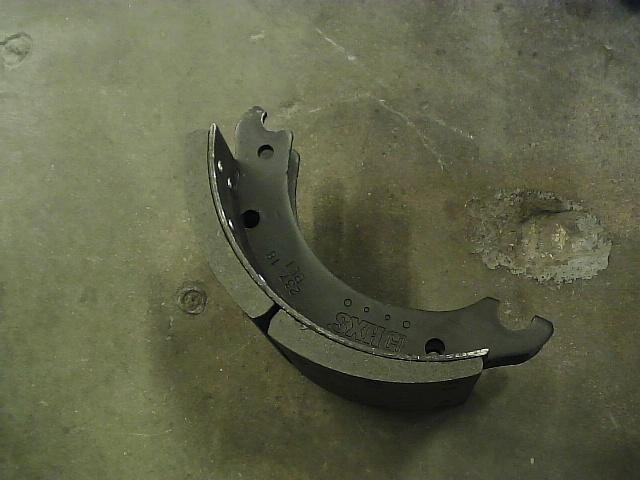brake-shoes: (181, 106, 556, 419)
